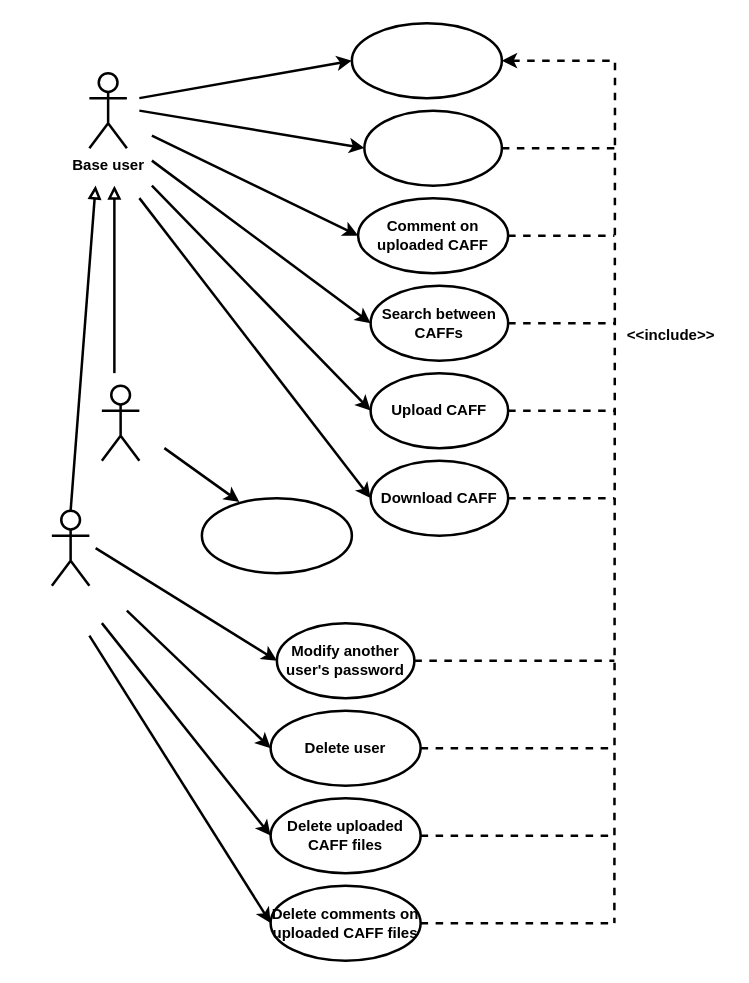
The diagram is 749 pixels wide and 983 high, and some of its shapes have lost their labels. Here are the shapes that lost their labels. From the top down, the centre of each, then its label:
At point (426, 60): "Login".
At point (432, 147): "Modify own password".
At point (120, 422): "User".
At point (70, 547): "Administrator".
At point (276, 535): "Register".
